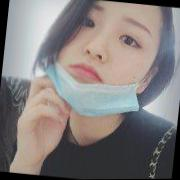WRONG: (50, 1, 162, 121)
